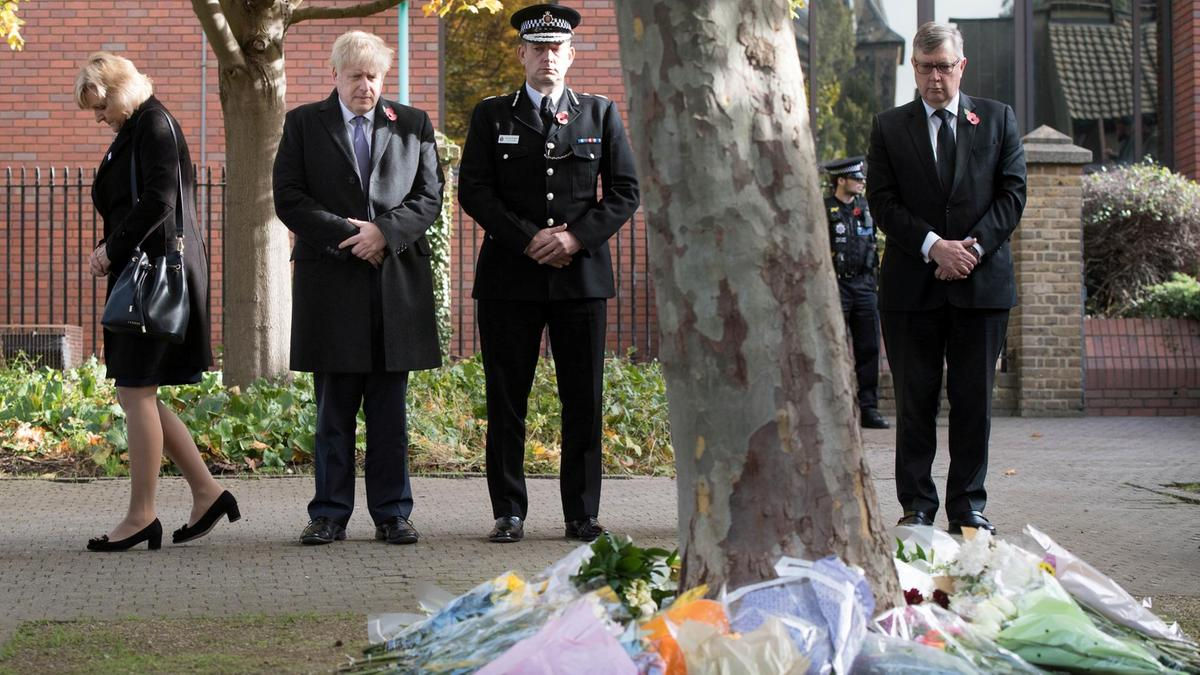person: (455, 1, 626, 538), (66, 52, 246, 557), (280, 24, 442, 547), (863, 23, 1022, 542), (817, 149, 886, 435)
